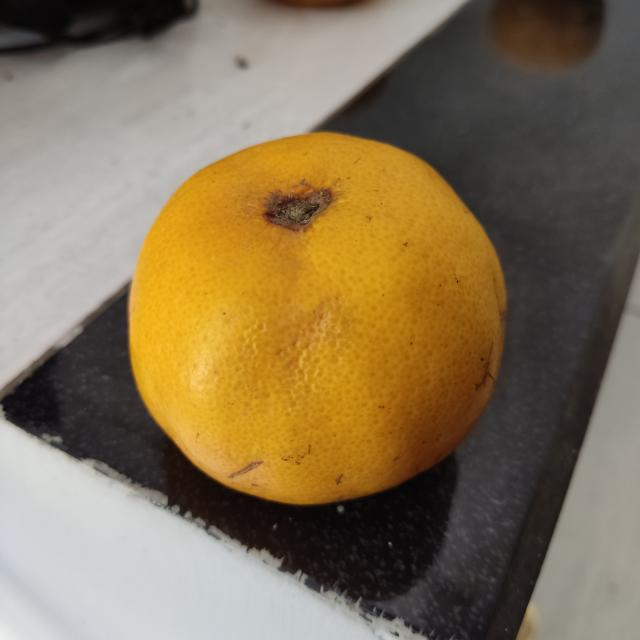orange: (125, 129, 513, 507)
